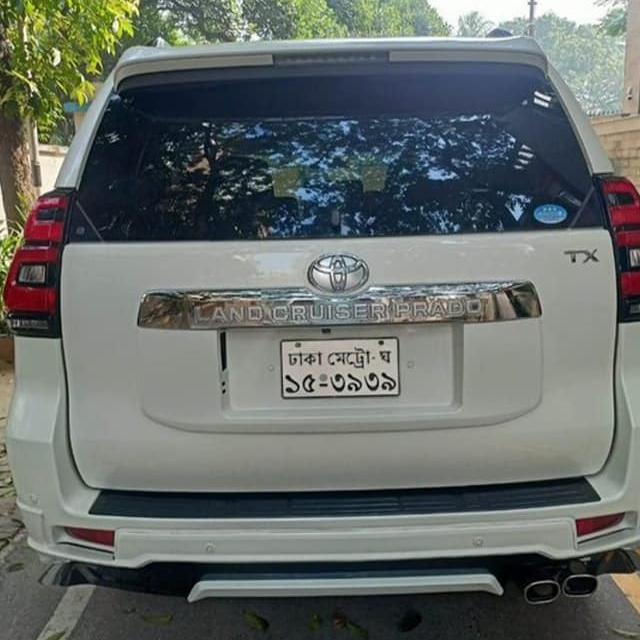Number-Plate: (282, 340, 401, 396)
